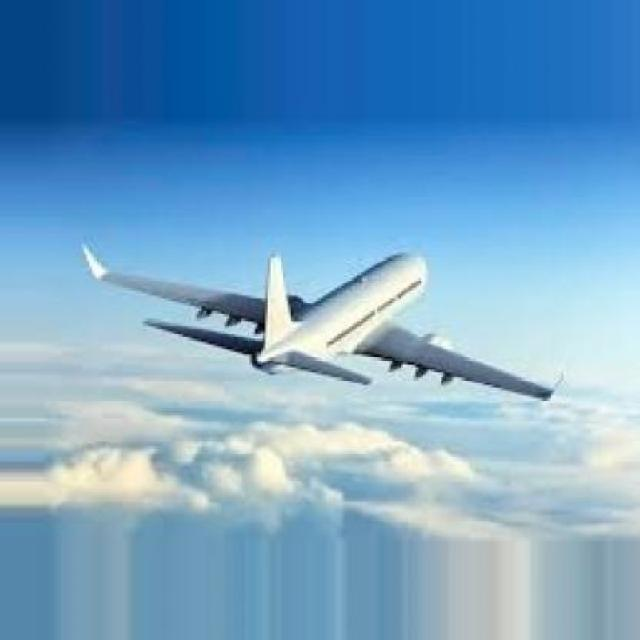iha: (75, 235, 574, 408)
